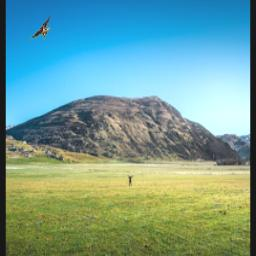Swallow: (30, 13, 51, 40)
